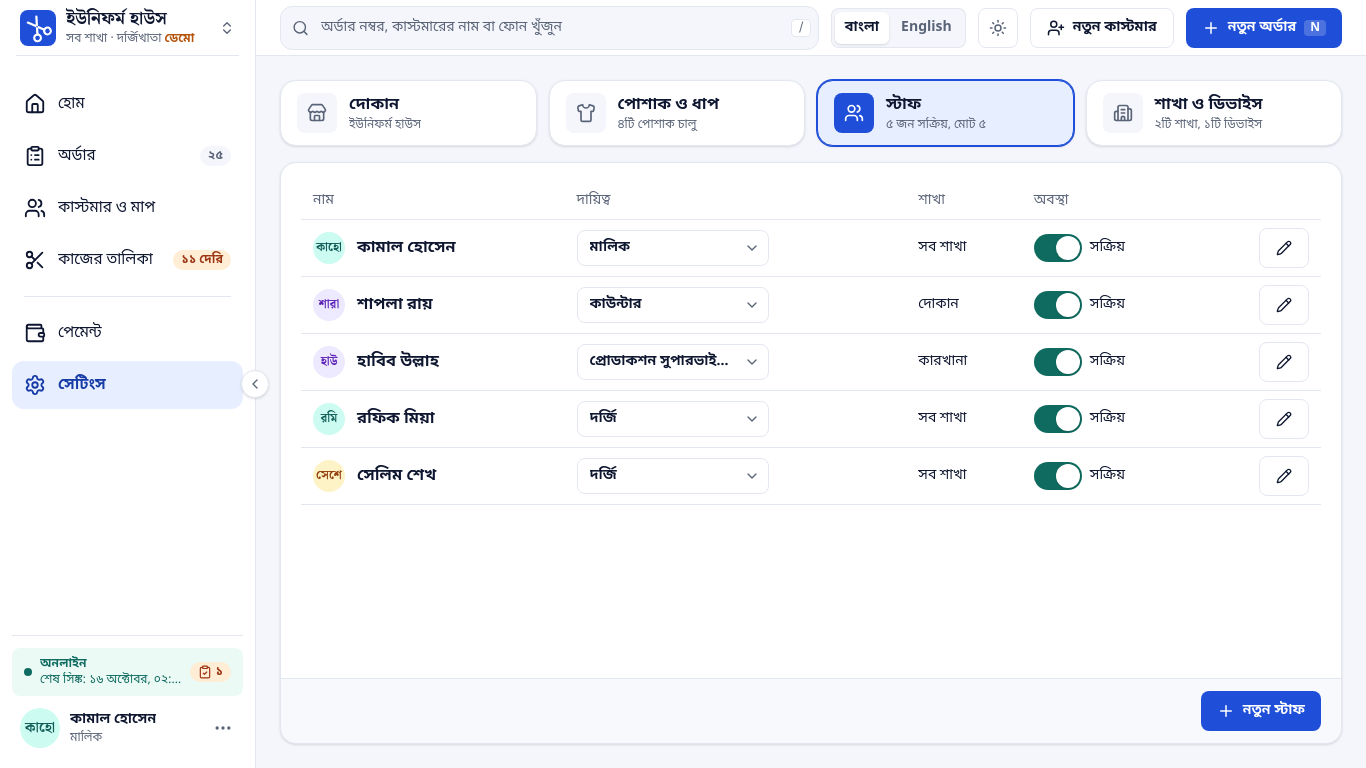
Desktop staff table › changes a role from the table, but not your own
Click the dropdown named "সেলিম শেখ: দায়িত্ব".
click(673, 476)  # box [577, 458, 769, 494]
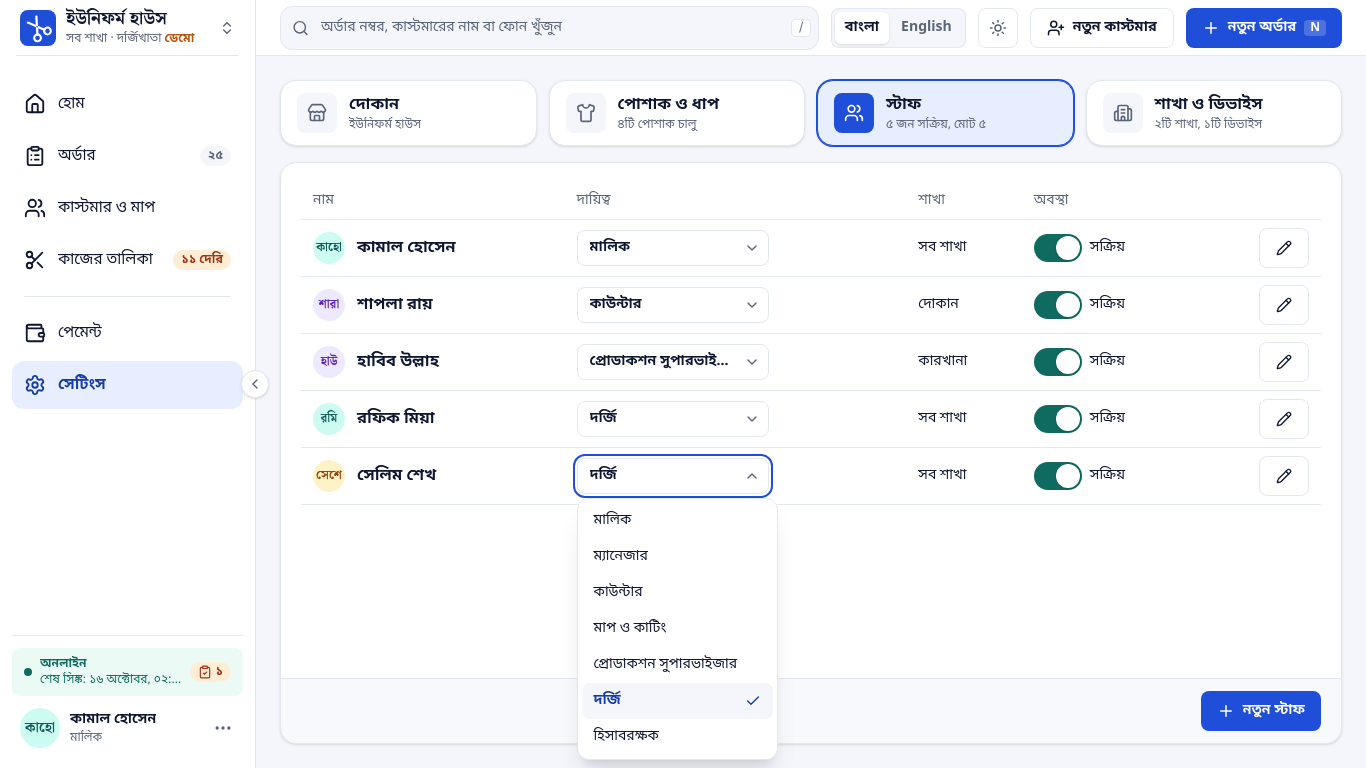
Click the option "ম্যানেজার".
click(621, 556)  # box [594, 547, 648, 566]
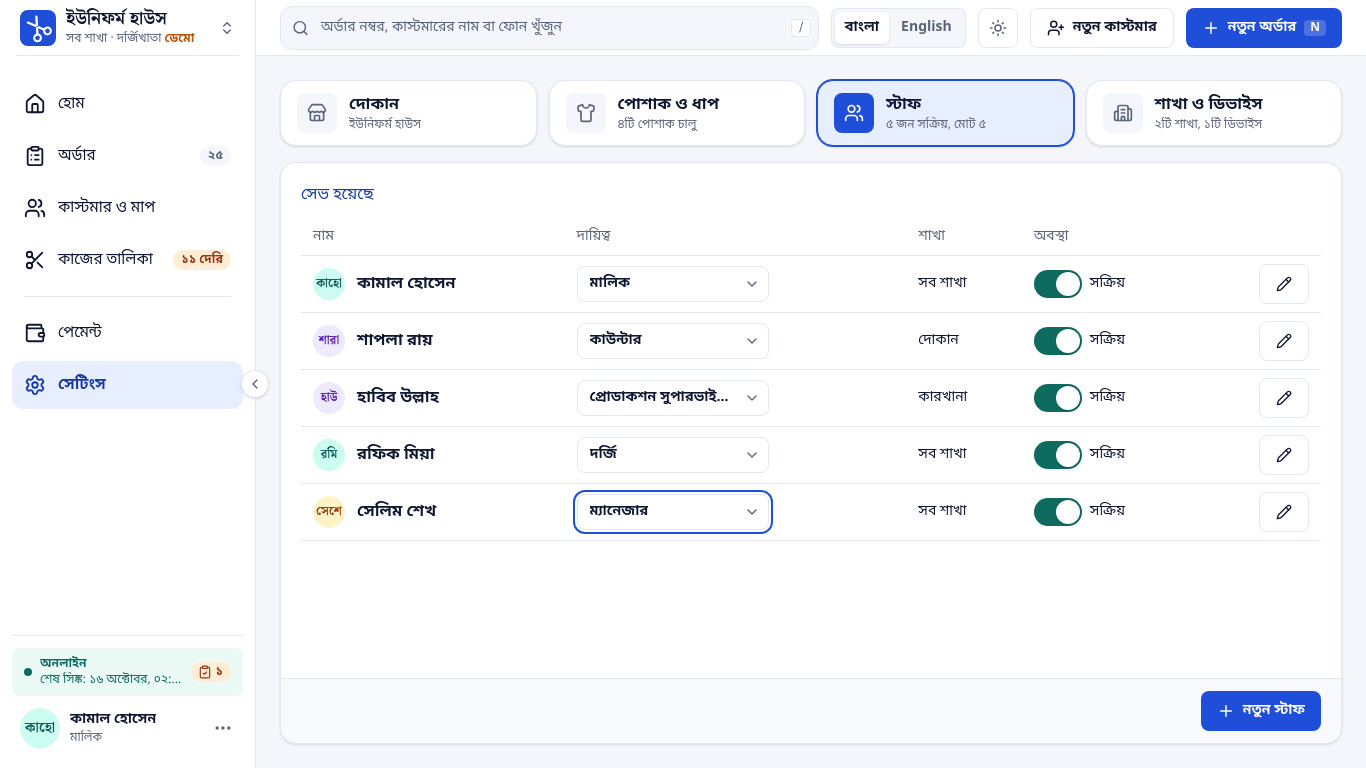
Result: the text "সেভ হয়েছে" is shown at [301, 184, 374, 206]
Click the dropdown labelled "মালিক".
click(673, 284)  # box [577, 266, 769, 302]
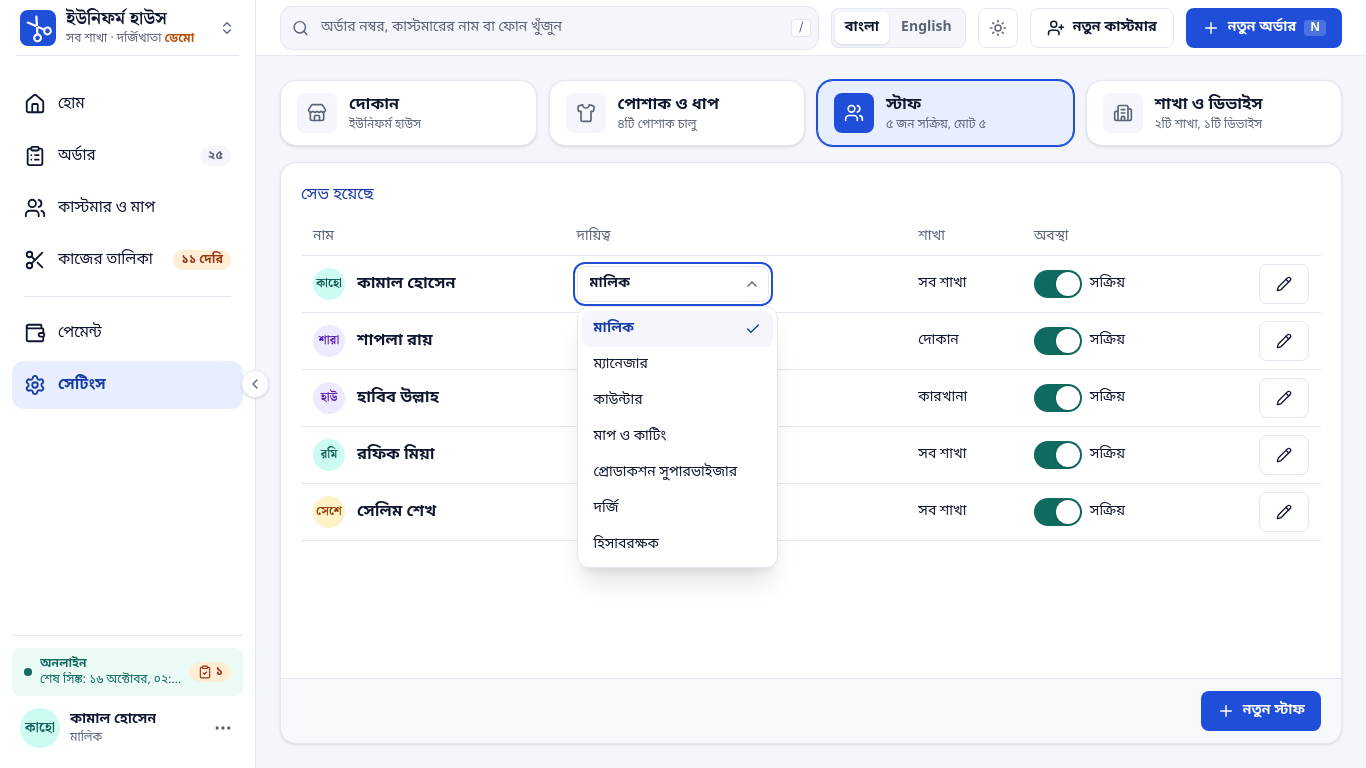
Click the option "ম্যানেজার".
click(621, 364)  # box [594, 355, 648, 374]
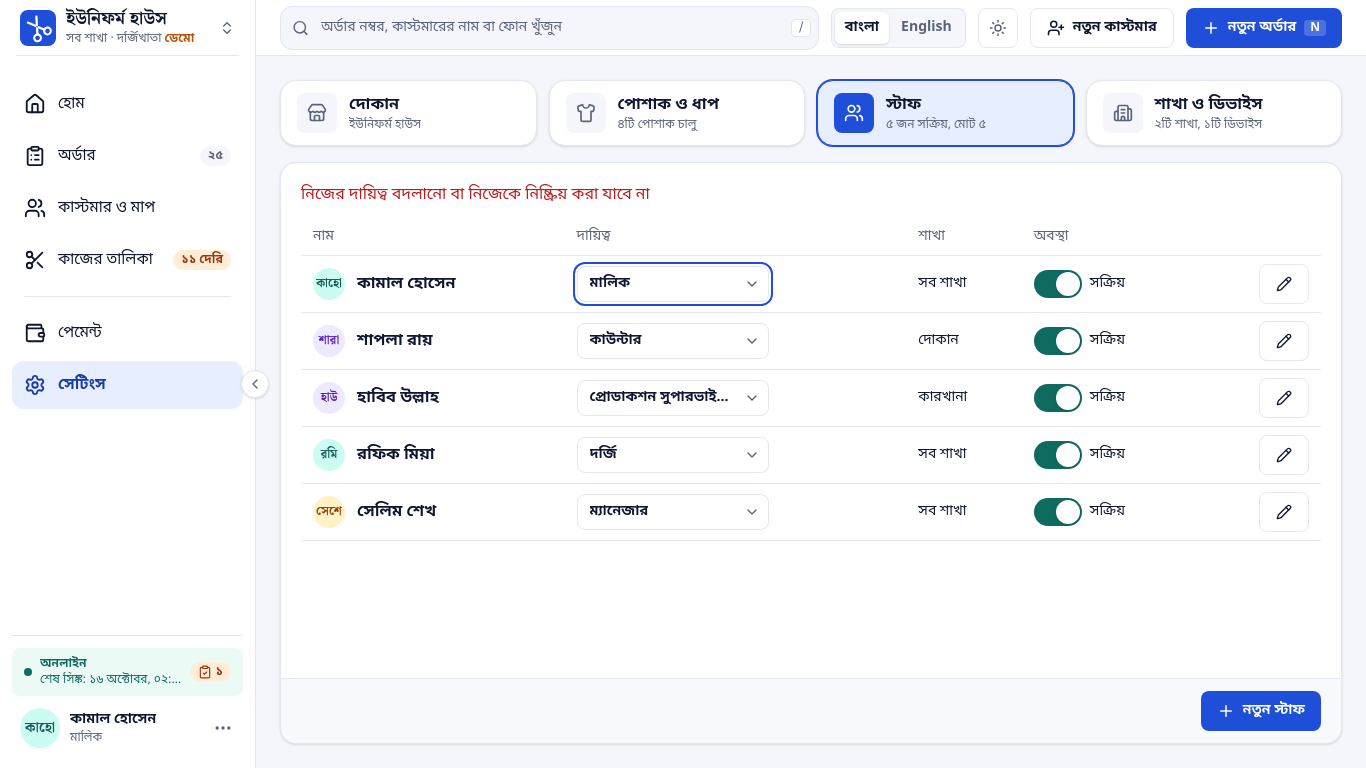
Expected: the dropdown named "কামাল হোসেন: দায়িত্ব" reads "মালিক", [577, 266, 769, 302]
Result: the message reads "নিজের দায়িত্ব বদলানো বা নিজেকে নিষ্ক্রিয় করা যাবে না" at [301, 184, 650, 206]
